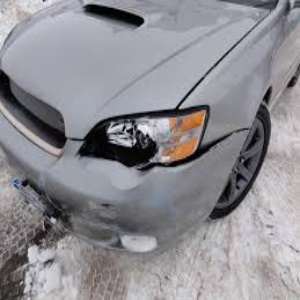bumper: (84, 161, 243, 248)
head_lights: (86, 107, 207, 164)
